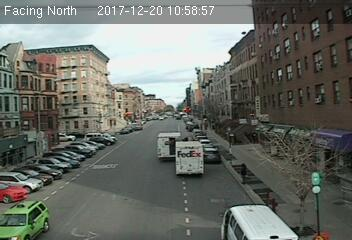car: (203, 147, 221, 163)
pedestrian: (239, 160, 248, 186)
truck: (219, 200, 296, 240), (174, 141, 204, 175), (156, 131, 182, 161)
